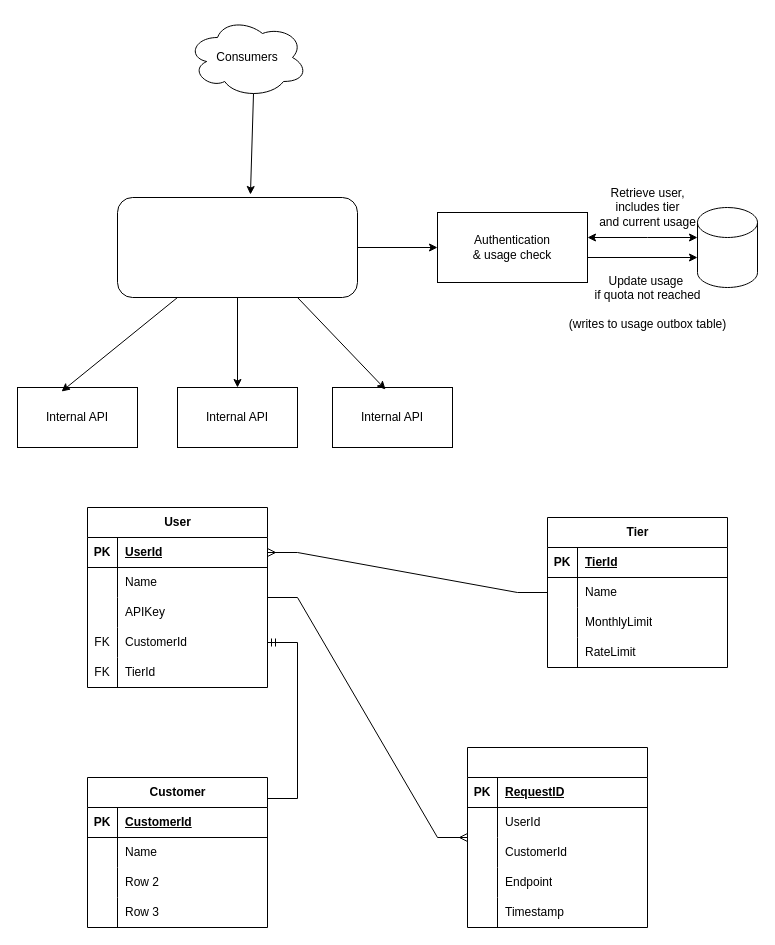
This 775x945 diagram has some shape labels left out. Here are the shapes that lost their labels. From the top down, the box of each, then its label:
(116, 196, 358, 298): API Gateway
(696, 206, 758, 288): User DB
(466, 746, 648, 928): UsageLog
